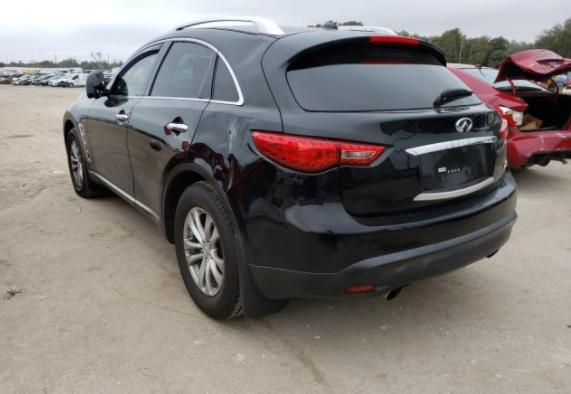Back-bumper: (226, 159, 520, 305)
Back-door: (127, 37, 218, 219)
Back-wheel: (175, 182, 243, 322)
Back-window: (148, 40, 218, 101), (211, 50, 244, 104)
Back-windshield: (284, 43, 482, 113)
Fender: (62, 92, 97, 172)
Front-door: (87, 42, 168, 195)
Front-wheel: (66, 130, 87, 193)
Mirror: (84, 70, 110, 100)
Quarter-panel: (191, 99, 284, 188)
Rocker-panel: (89, 171, 164, 238)
Roof: (173, 18, 328, 39)
Tail-light: (252, 129, 340, 174), (339, 140, 387, 166)
Trunk: (259, 29, 509, 216)
